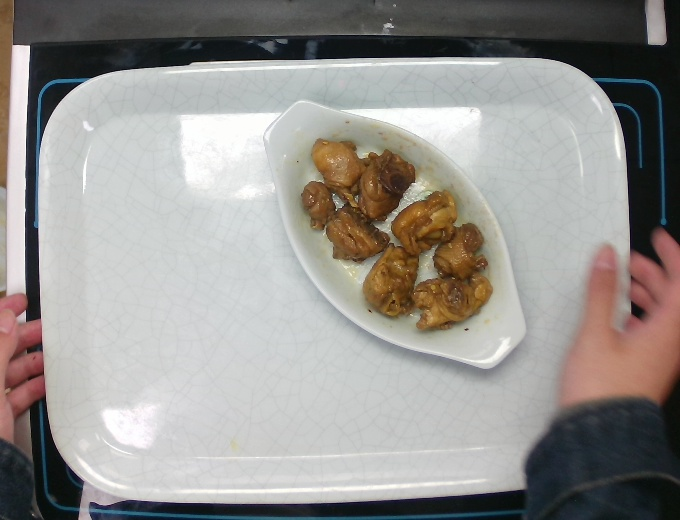JYsf-Yu_Pan: (261, 94, 526, 372)
